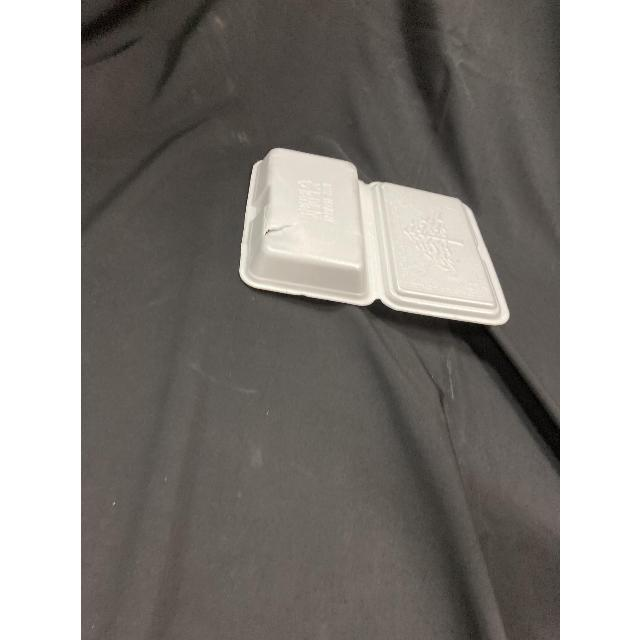Plastico descartable: (238, 148, 510, 327)
